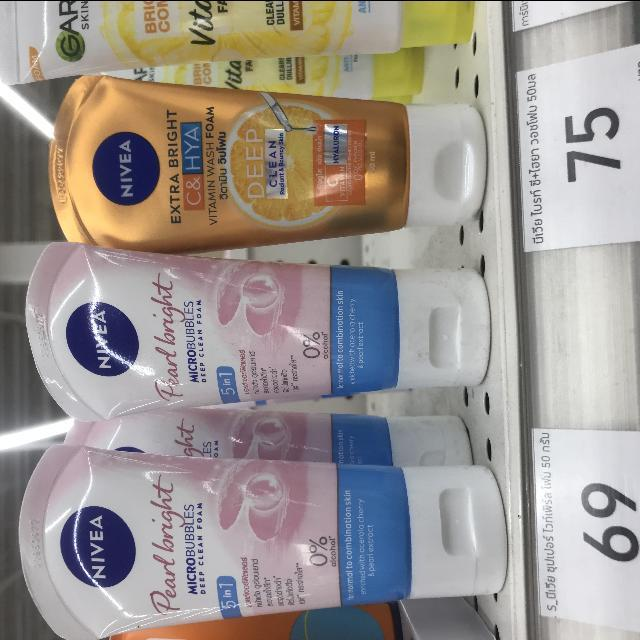Squeeze Tube: (18, 447, 514, 639), (21, 237, 483, 436), (45, 72, 500, 250)
